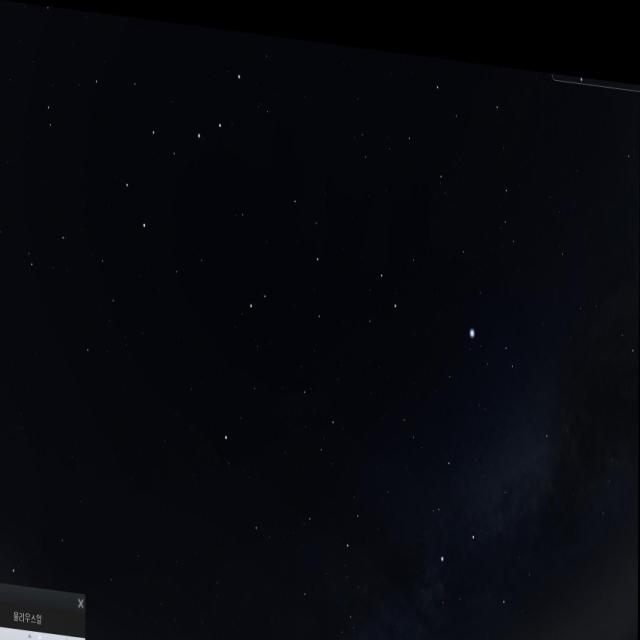cygnus: (428, 389, 556, 606)
lyra: (469, 308, 524, 374)
ursa_major: (112, 41, 255, 243)
